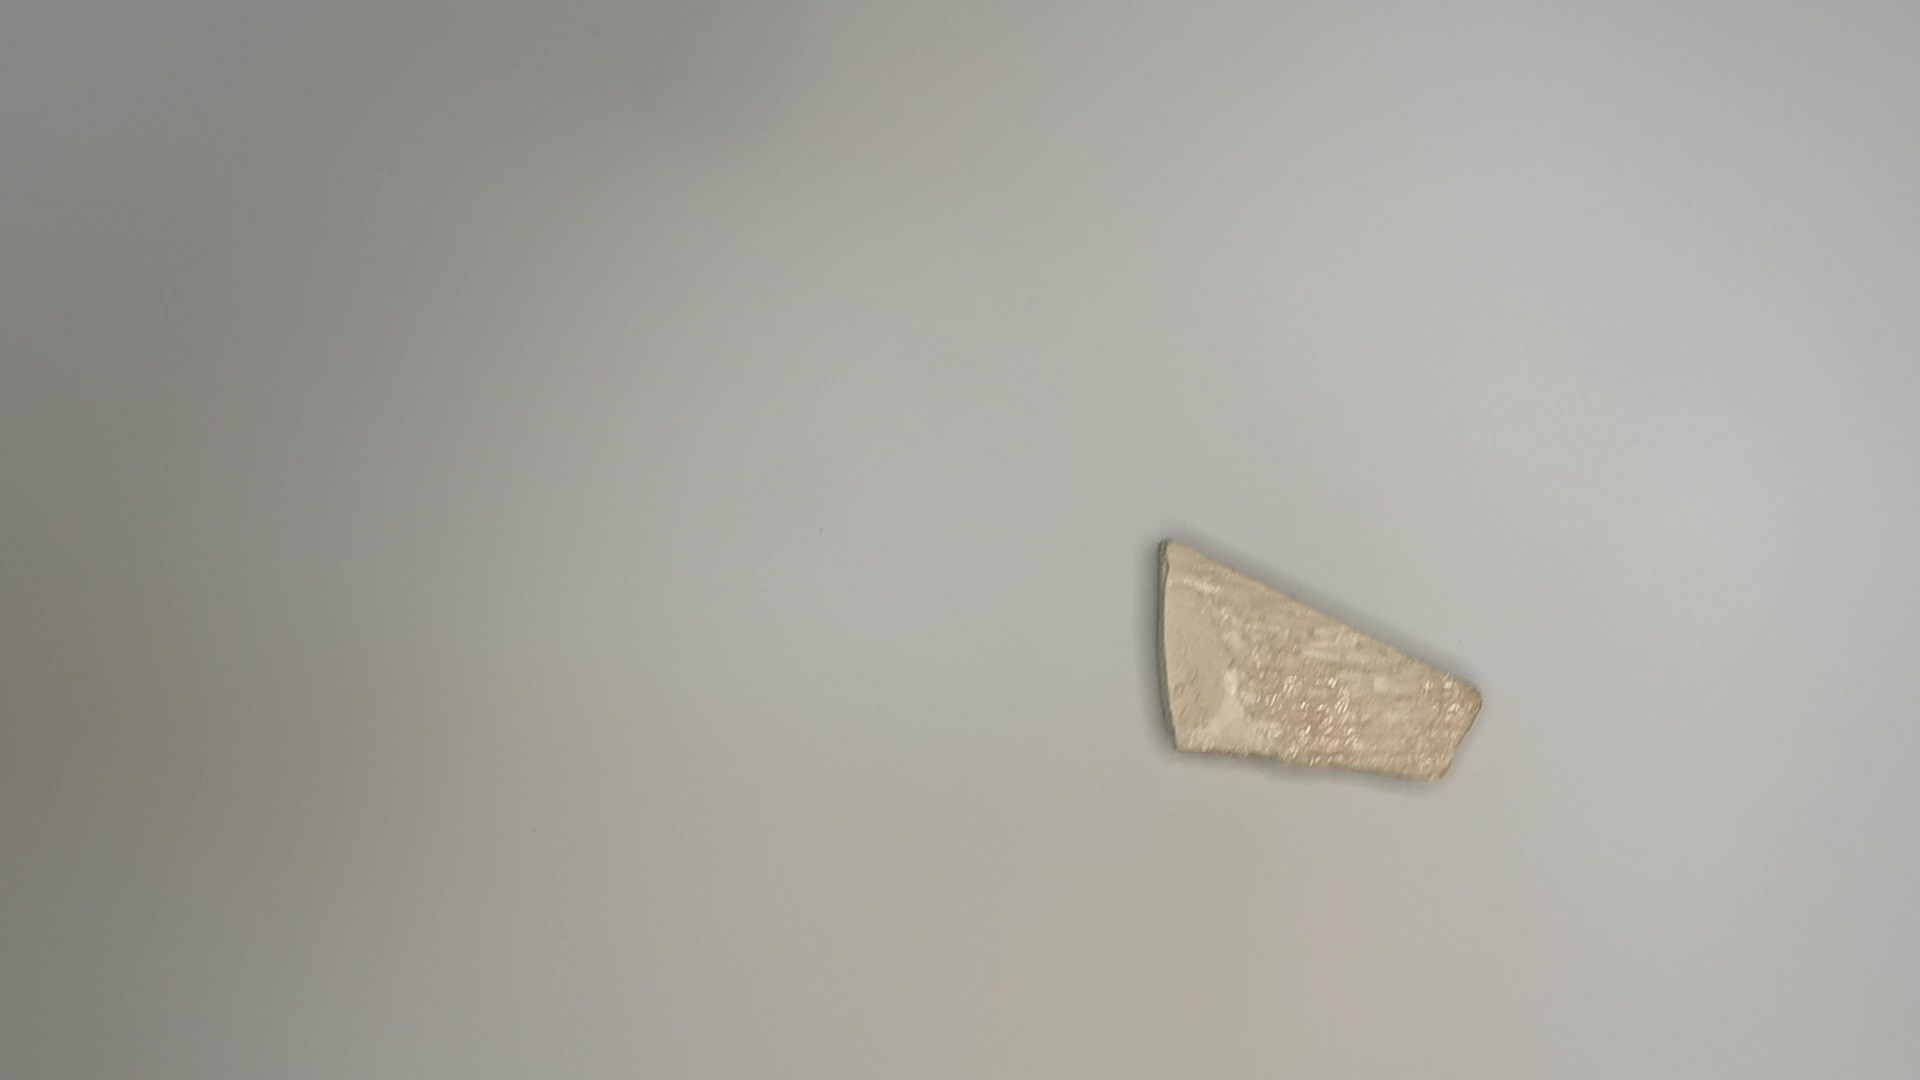ceramic: (1153, 535, 1491, 794)
